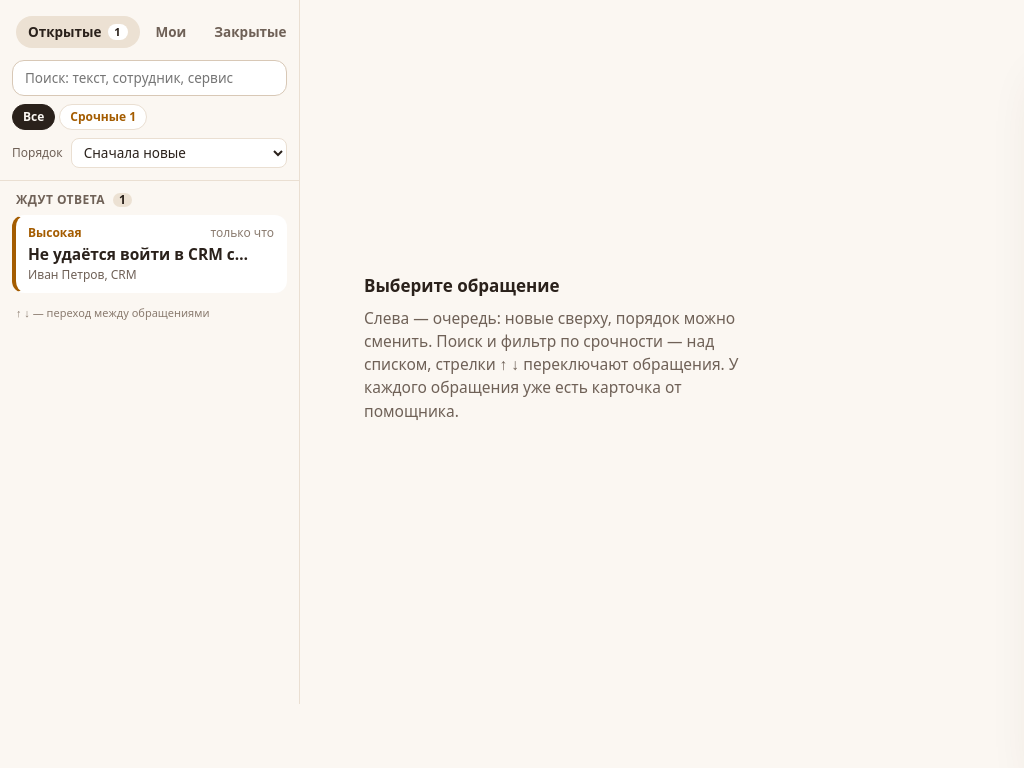
OperatorPage › opens a ticket with the assistant's card: urgency reason, original words and tried steps
Click the button "Не удаётся войти в CRM с ноутбука" at (150, 254), box [12,215,287,293]
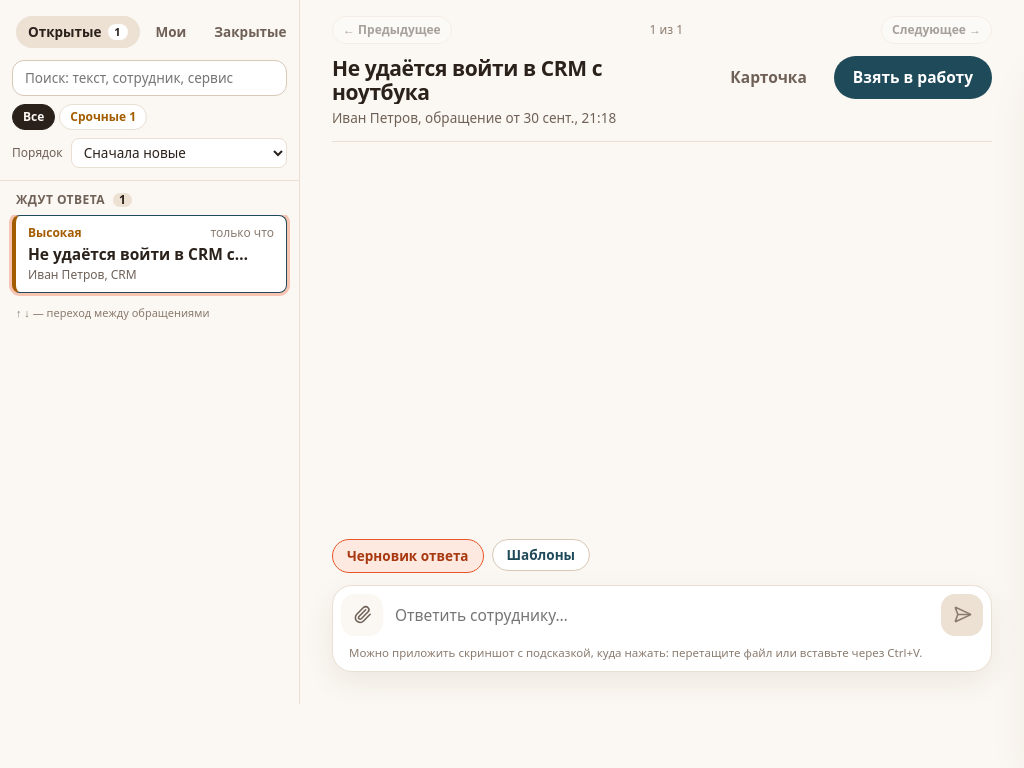
Expected: the button "Взять в работу" is shown, [834,56,992,99]
